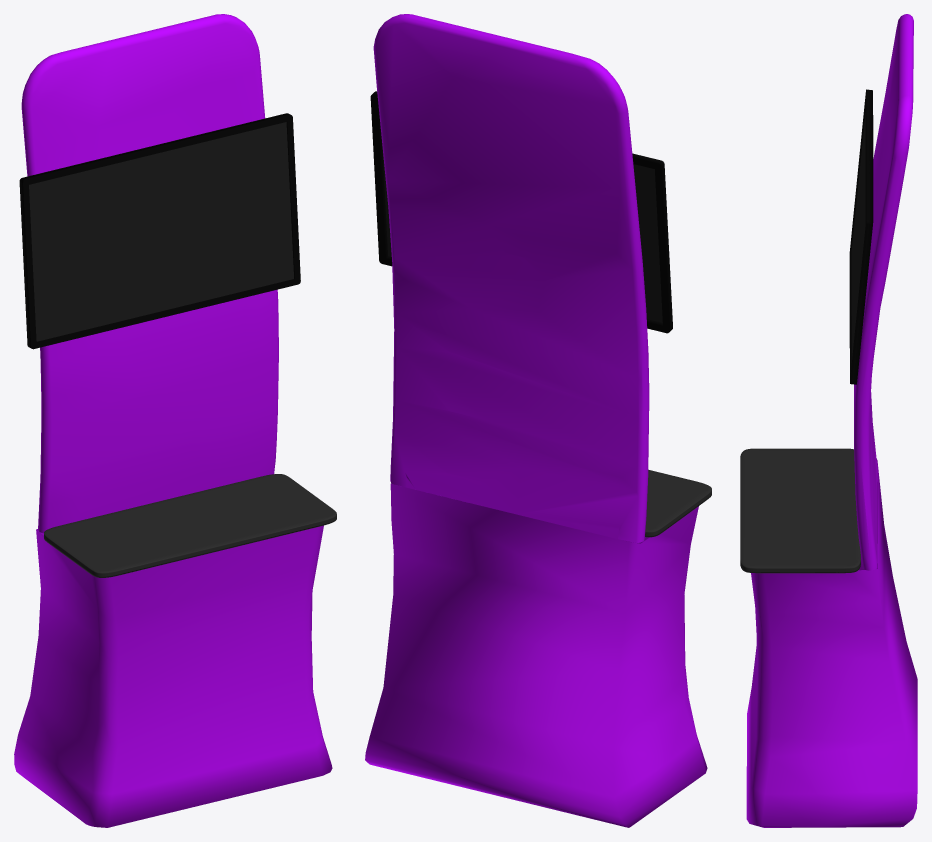
Rendered from Broadcast.glb.
3 views of the same model, side by side, from view 1: azimuth 30°, elevation 25°; view 2: azimuth 150°, elevation 25°; view 3: azimuth 270°, elevation 25° (orthographic). The views are drawn at different scales.
Parts seen in each view (by area): view 1: QuickZip Broadcast; view 2: QuickZip Broadcast; view 3: QuickZip Broadcast.
Boxes of the visible parts, bbox=[...] form: QuickZip Broadcast: bbox=[14, 14, 336, 827]; QuickZip Broadcast: bbox=[365, 14, 711, 827]; QuickZip Broadcast: bbox=[740, 14, 917, 827].
Size of the model in its own units: 0.9146 by 2.3 by 0.5182.
